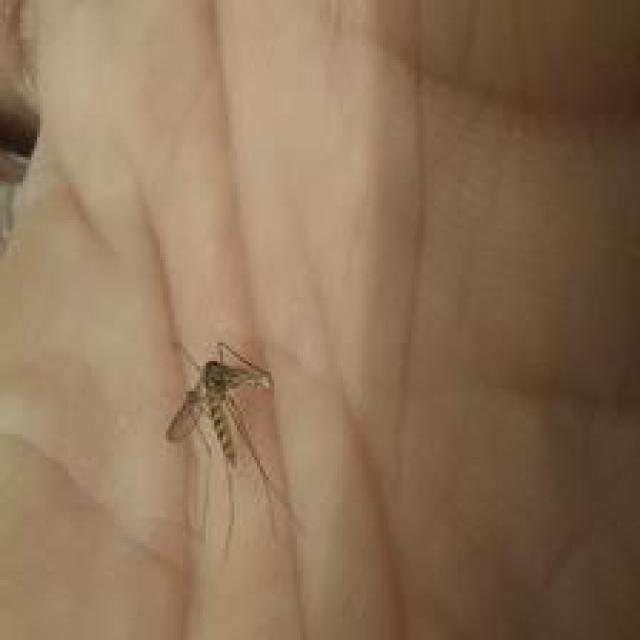Culex: (163, 338, 306, 556)
